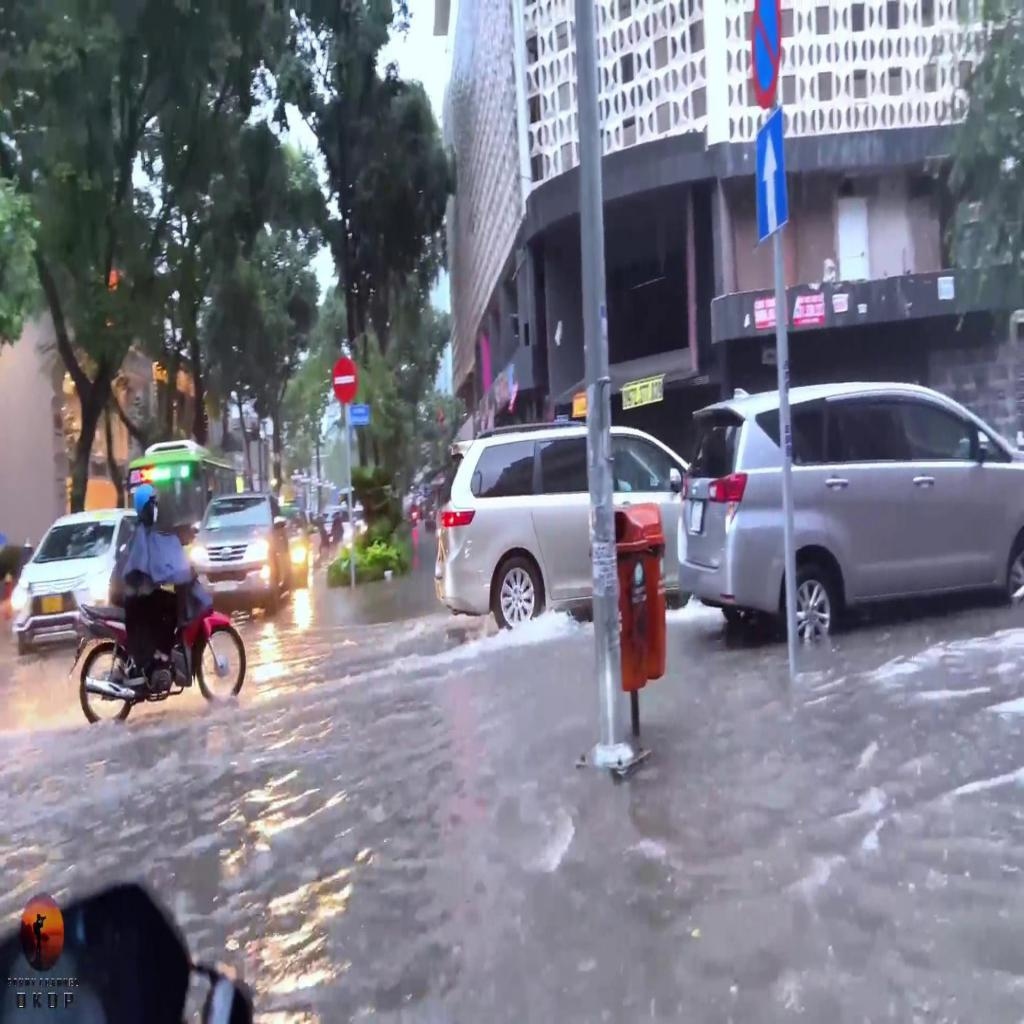cam_do_xe: (752, 3, 781, 108)
cam_xe_di_nguoc_chieu: (332, 359, 358, 403)
duong_mot_chieu: (754, 108, 789, 244)
